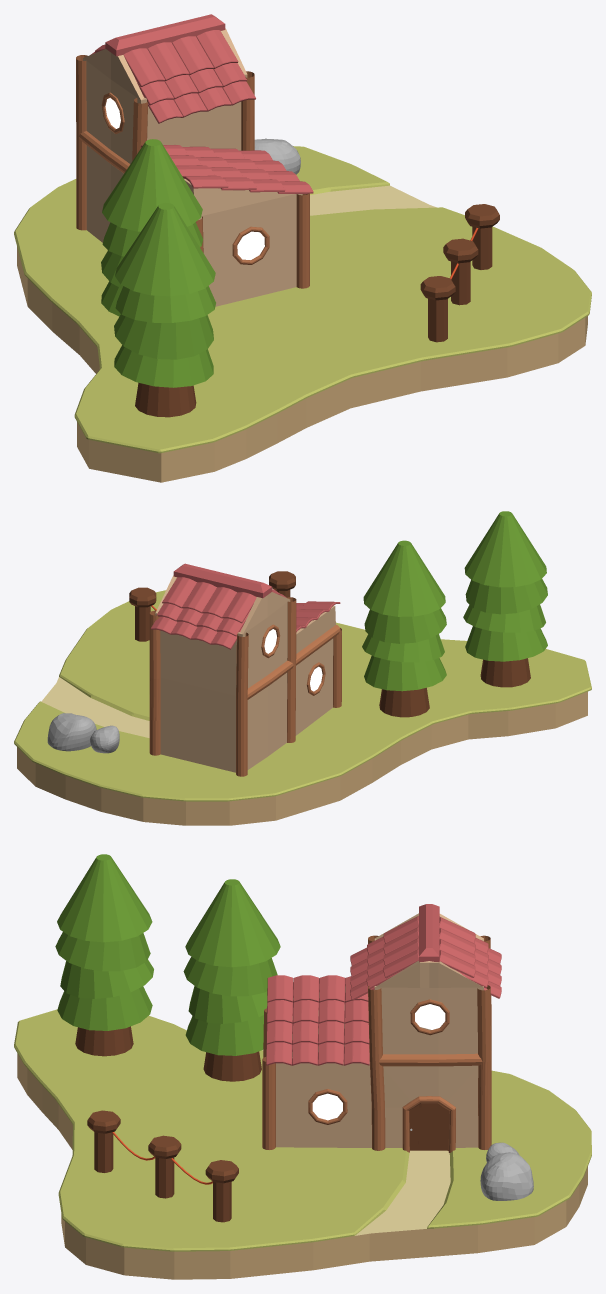
3 renders of one model, top to bottom at view 1: azimuth 30°, elevation 25°; view 2: azimuth 150°, elevation 25°; view 3: azimuth 270°, elevation 25°, orthographic. The views are drawn at different scales.
Visible parts, largest first — view 1: 贝塞尔曲线.003, 平面.001, 贝塞尔曲线.002, 柱体, 立方体.001, 柱体.016, 平面.007, 立方体, 平面.003, 柱体.005, 柱体.007, 柱体.008 (+4 smaller); view 2: 贝塞尔曲线.003, 平面.001, 贝塞尔曲线.002, 柱体.016, 柱体, 平面.007, 立方体.002, 球体.002, 平面.003, 平面.008, 柱体.008, 立方体 (+4 smaller); view 3: 贝塞尔曲线.003, 平面.001, 贝塞尔曲线.002, 柱体, 柱体.016, 立方体, 平面.007, 立方体.001, 立方体.002, 球体.002, 平面.002, 柱体.005 (+7 smaller).
Boxes of the visible parts, box(x1,y1,x2,y2) form: 贝塞尔曲线.003: box(14, 146, 591, 453); 平面.001: box(83, 28, 302, 306); 贝塞尔曲线.002: box(17, 247, 587, 482); 柱体: box(114, 202, 215, 417); 立方体.001: box(123, 30, 255, 123); 柱体.016: box(101, 139, 203, 316); 平面.007: box(76, 55, 309, 288); 立方体: box(141, 145, 313, 193); 平面.003: box(105, 14, 225, 56); 柱体.005: box(420, 276, 455, 342); 柱体.007: box(443, 238, 478, 305); 柱体.008: box(465, 204, 499, 269); 贝塞尔曲线.003: box(14, 590, 591, 801); 平面.001: box(155, 575, 335, 772); 贝塞尔曲线.002: box(17, 691, 587, 825); 柱体.016: box(362, 540, 446, 717); 柱体: box(463, 511, 547, 687); 平面.007: box(149, 597, 341, 776); 立方体.002: box(150, 577, 256, 649); 球体.002: box(47, 713, 96, 751); 平面.003: box(173, 563, 272, 598); 平面.008: box(247, 624, 340, 699); 柱体.008: box(129, 587, 156, 641); 立方体: box(296, 601, 340, 632); 贝塞尔曲线.003: box(14, 1009, 591, 1251); 平面.001: box(276, 913, 483, 1147); 贝塞尔曲线.002: box(17, 1053, 587, 1279); 柱体: box(55, 854, 153, 1056); 柱体.016: box(183, 879, 280, 1081); 立方体: box(266, 975, 369, 1065); 平面.007: box(262, 935, 491, 1150); 立方体.001: box(350, 916, 418, 1000); 立方体.002: box(439, 917, 501, 998); 球体.002: box(480, 1152, 533, 1200); 平面.002: box(409, 1103, 449, 1150); 柱体.005: box(87, 1110, 120, 1172).
Size of the model in its own units: 11.17 by 4.84 by 11.04.
